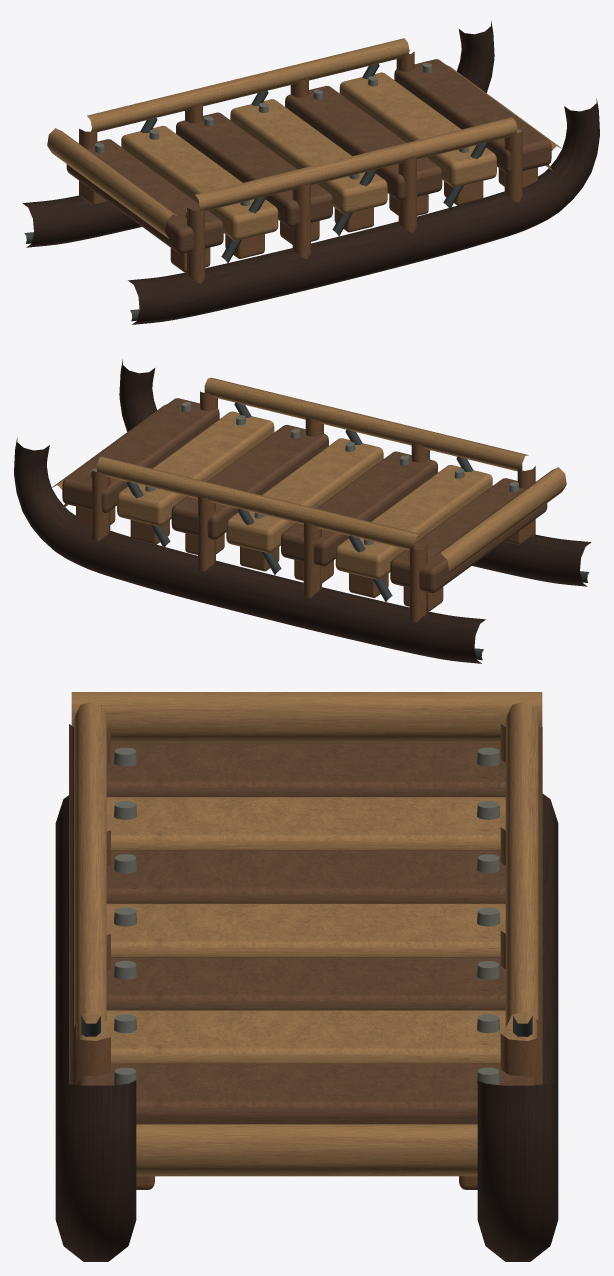
File: cargo_sled.glb
The picture shows the model from 3 angles, top to bottom: view 1: azimuth 30°, elevation 25°; view 2: azimuth 150°, elevation 25°; view 3: azimuth 270°, elevation 25°; orthographic projection. The views are drawn at different scales.
Visible parts, largest first — view 1: cargo_sled; view 2: cargo_sled; view 3: cargo_sled.
Boxes of the visible parts, <box> form: cargo_sled: <box>22,20,599,324</box>; cargo_sled: <box>14,359,591,663</box>; cargo_sled: <box>55,692,558,1261</box>.
Bounding box in the file's own units: 2.8 × 0.7 × 1.3.
Materials: 1 (1 with a texture image).
